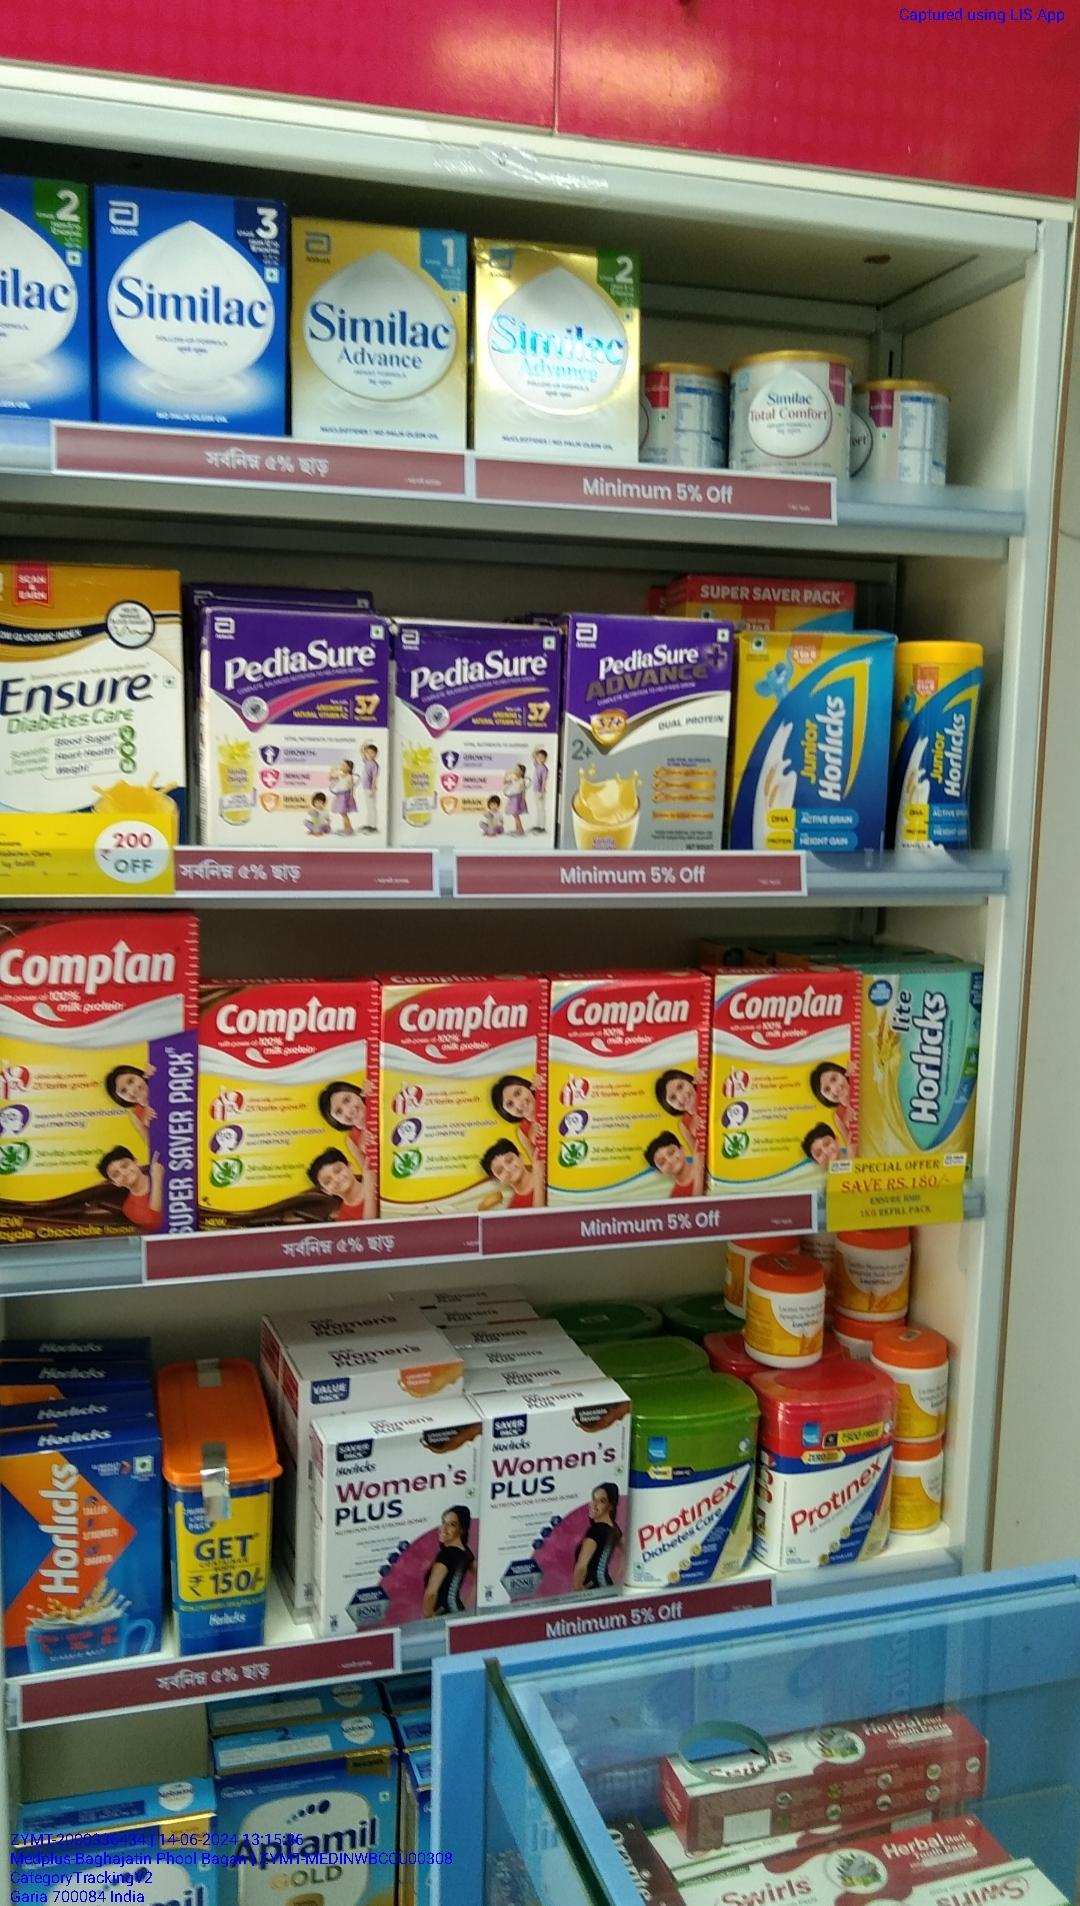COMPLAN_CHOCOLATE_1_KG_PACK: (0, 918, 195, 1241)
COMPLAN_CHOCOLATE_200_GMS_PACK: (195, 982, 381, 1225)
COMPLAN_CREAMY_CLASSIC_500_G_PACK: (549, 979, 708, 1203), (713, 974, 859, 1198)
COMPLAN_KESAR_BADAM_500_GMS_PACK: (381, 984, 547, 1208)
HORLICKS_JUNIOR_VANILLA_500_GM_JAR: (898, 638, 984, 867)
HORLICK_CLASSIC_MALT_500_G_PACK: (3, 1448, 165, 1657)
